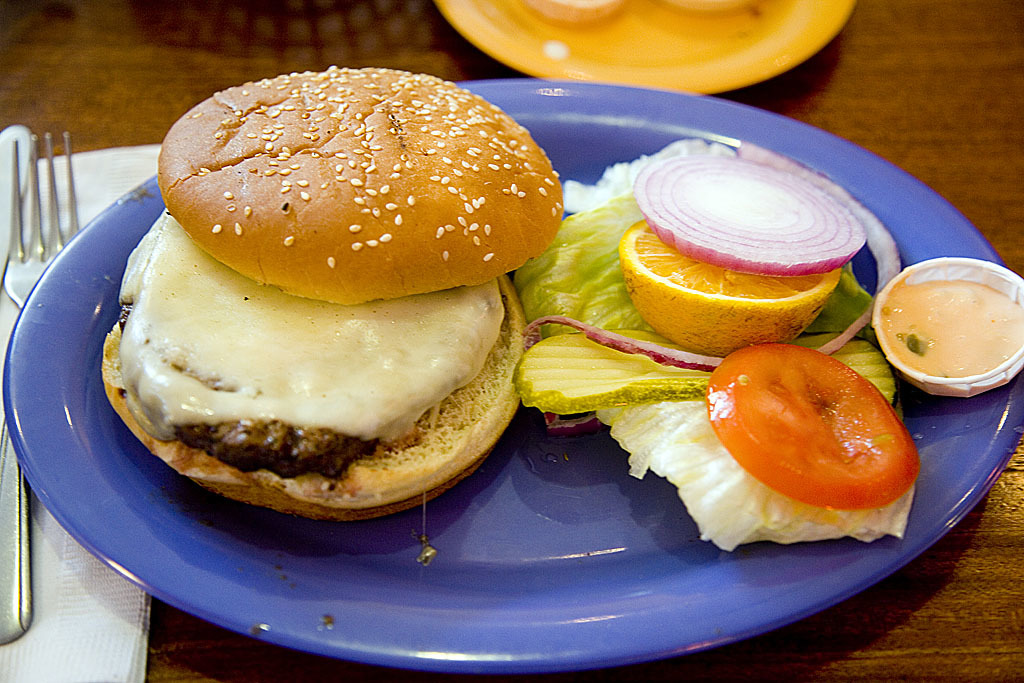Hamburger: (106, 64, 558, 517)
